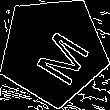M_NW: (20, 18, 86, 84)
